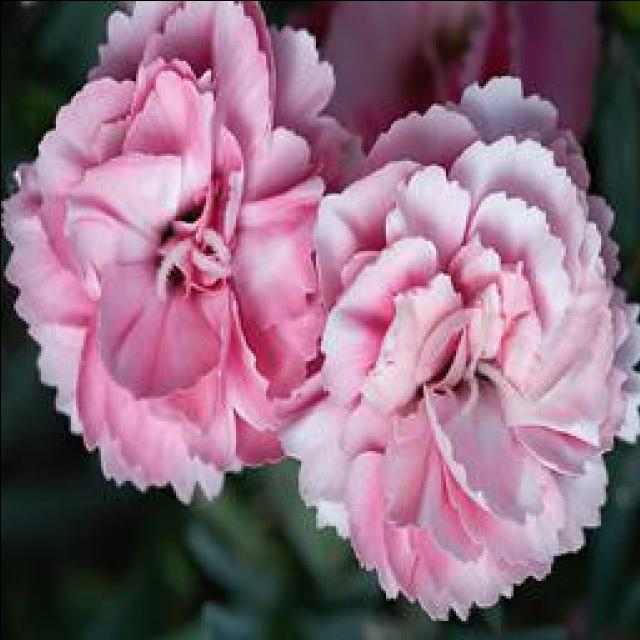carnation: (284, 125, 636, 617)
